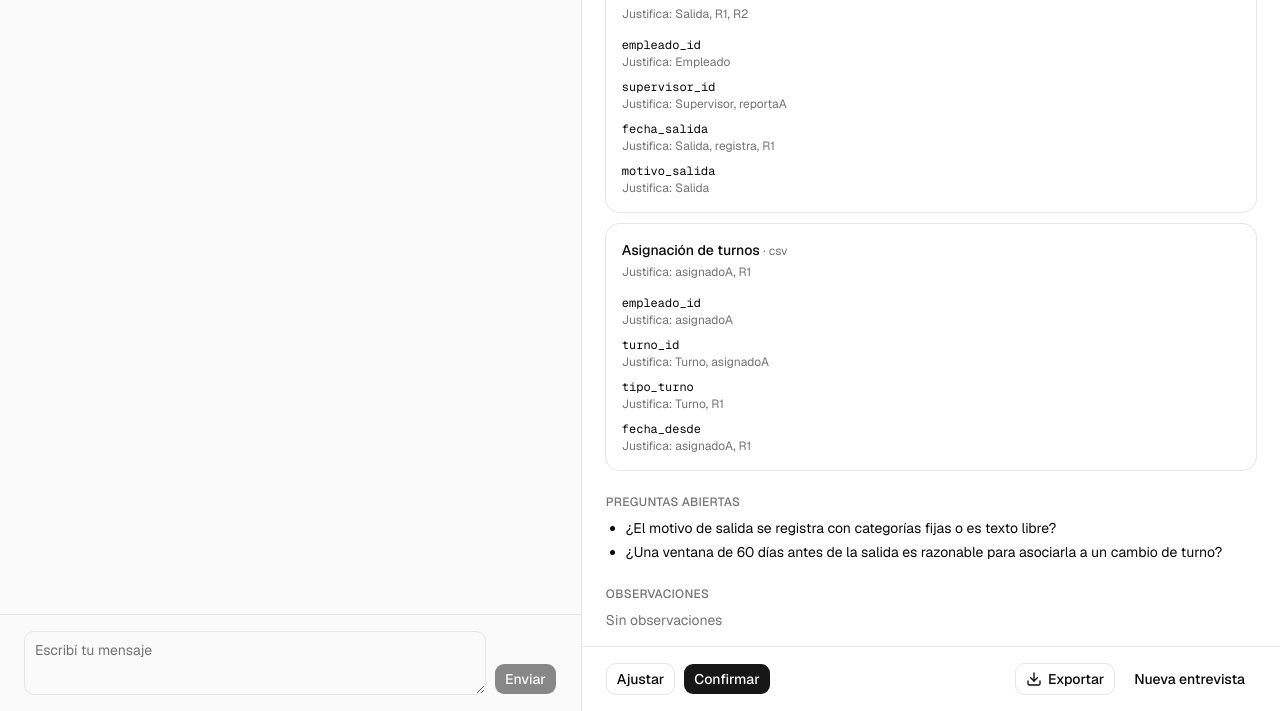
Test: persistencia › Nueva entrevista pide confirmación y vacía la sesión
The width and height of the screenshot is (1280, 711).
(page scrolled)
Click the button "Nueva entrevista".
click(1190, 679)  # box [1123,663,1256,695]
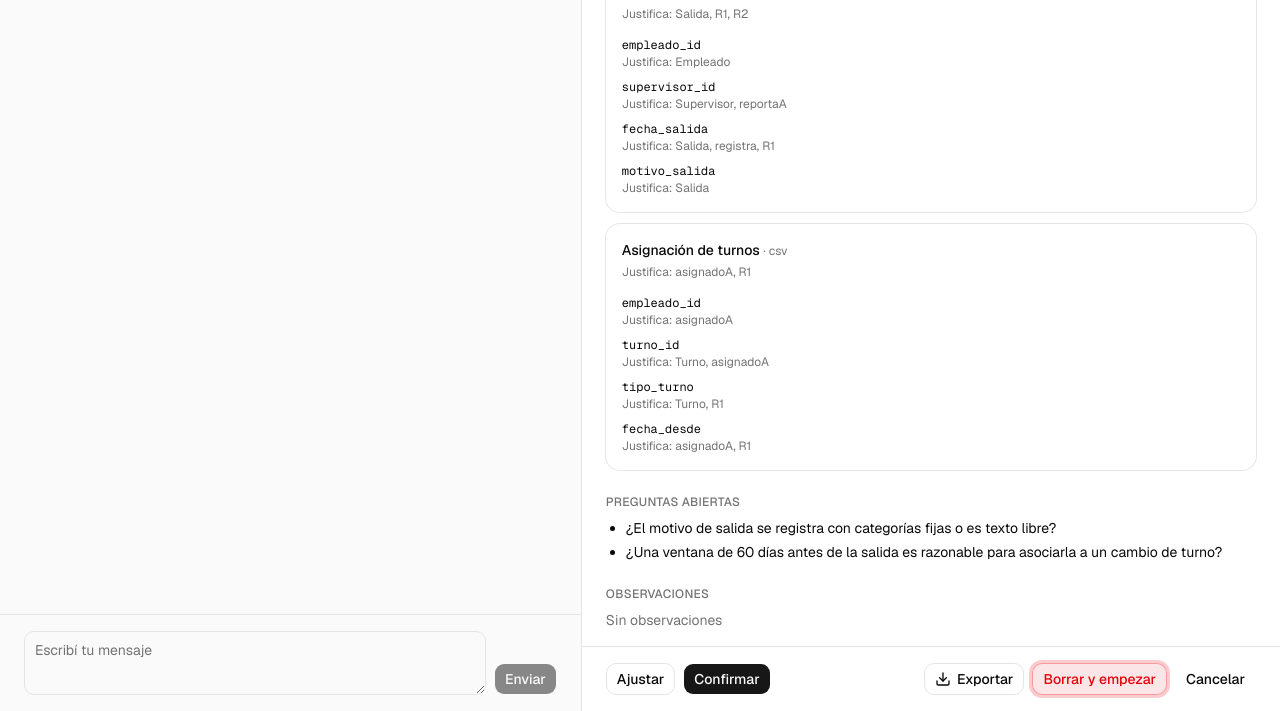
Click the button "Borrar y empezar".
click(1100, 679)  # box [1032,663,1167,695]
(page scrolled)
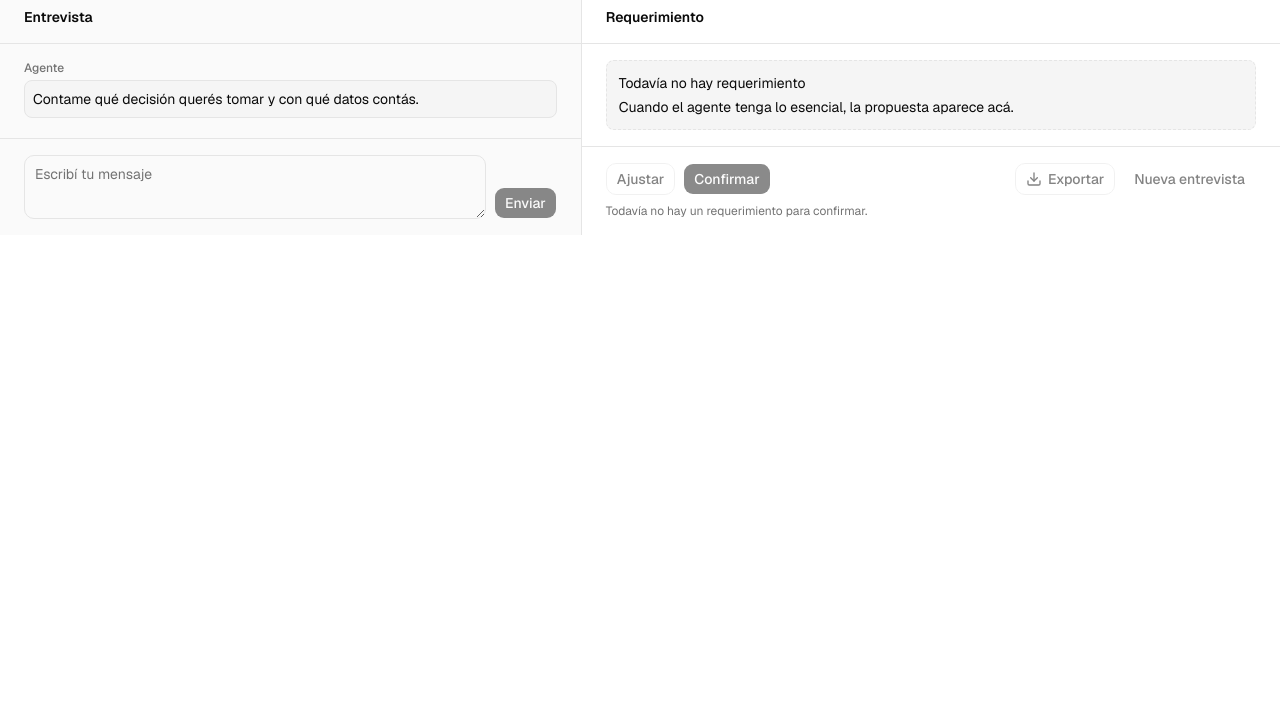
Expected: the text "Todavía no hay requerimiento" is shown, [619,74,805,92]
